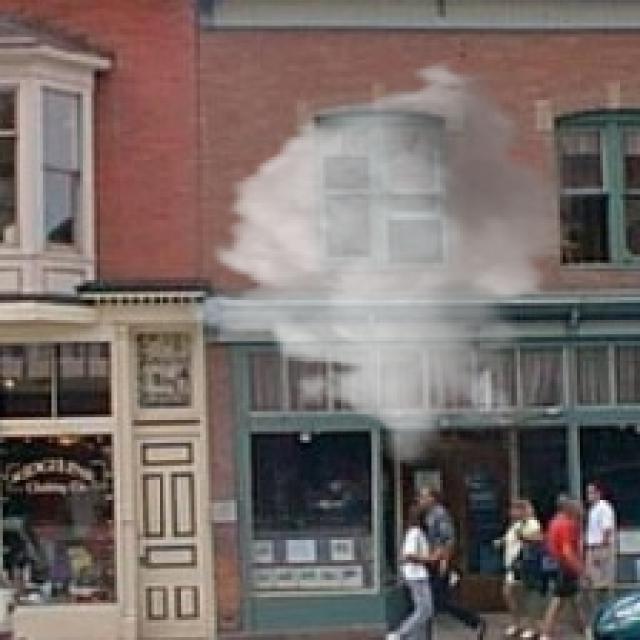smoke: (186, 57, 594, 466)
